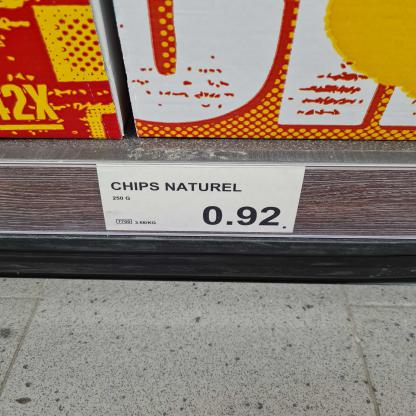prtg: (97, 166, 308, 234)
